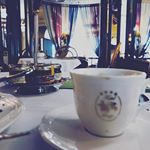cups: (68, 66, 150, 140)
